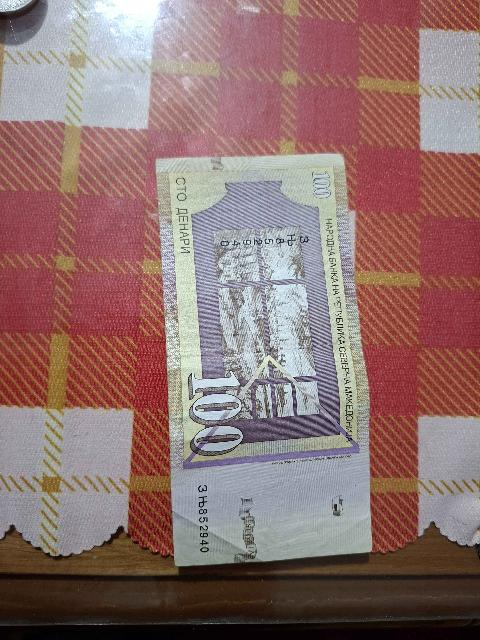100_note: (157, 155, 371, 565)
